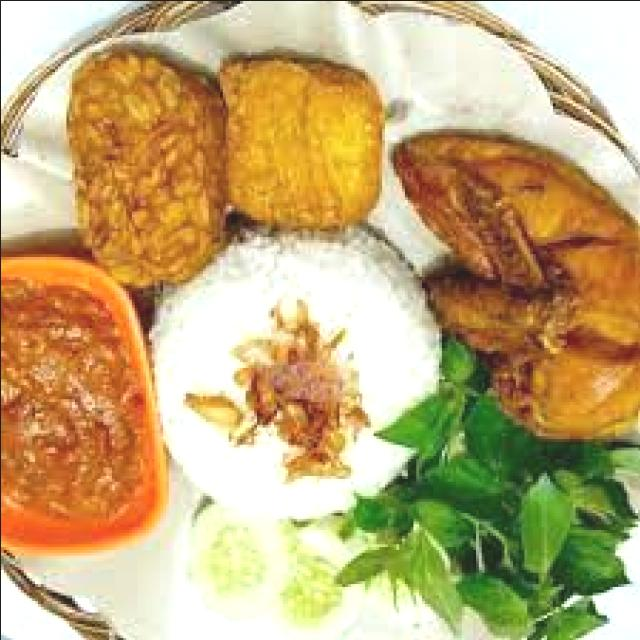ayam goreng: (390, 128, 640, 441)
nasi: (148, 225, 441, 515)
tahu goreng: (216, 54, 381, 228)
tempe goreng: (63, 48, 228, 287)
